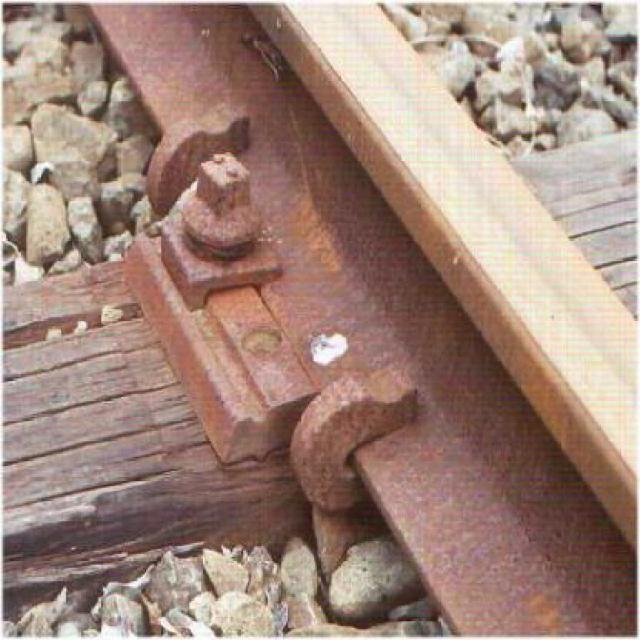defective: (161, 0, 637, 637)
